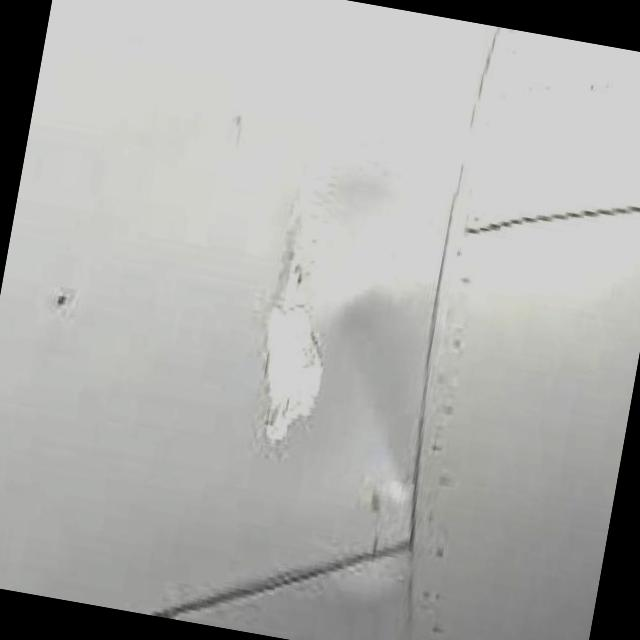dent: (234, 154, 357, 453)
